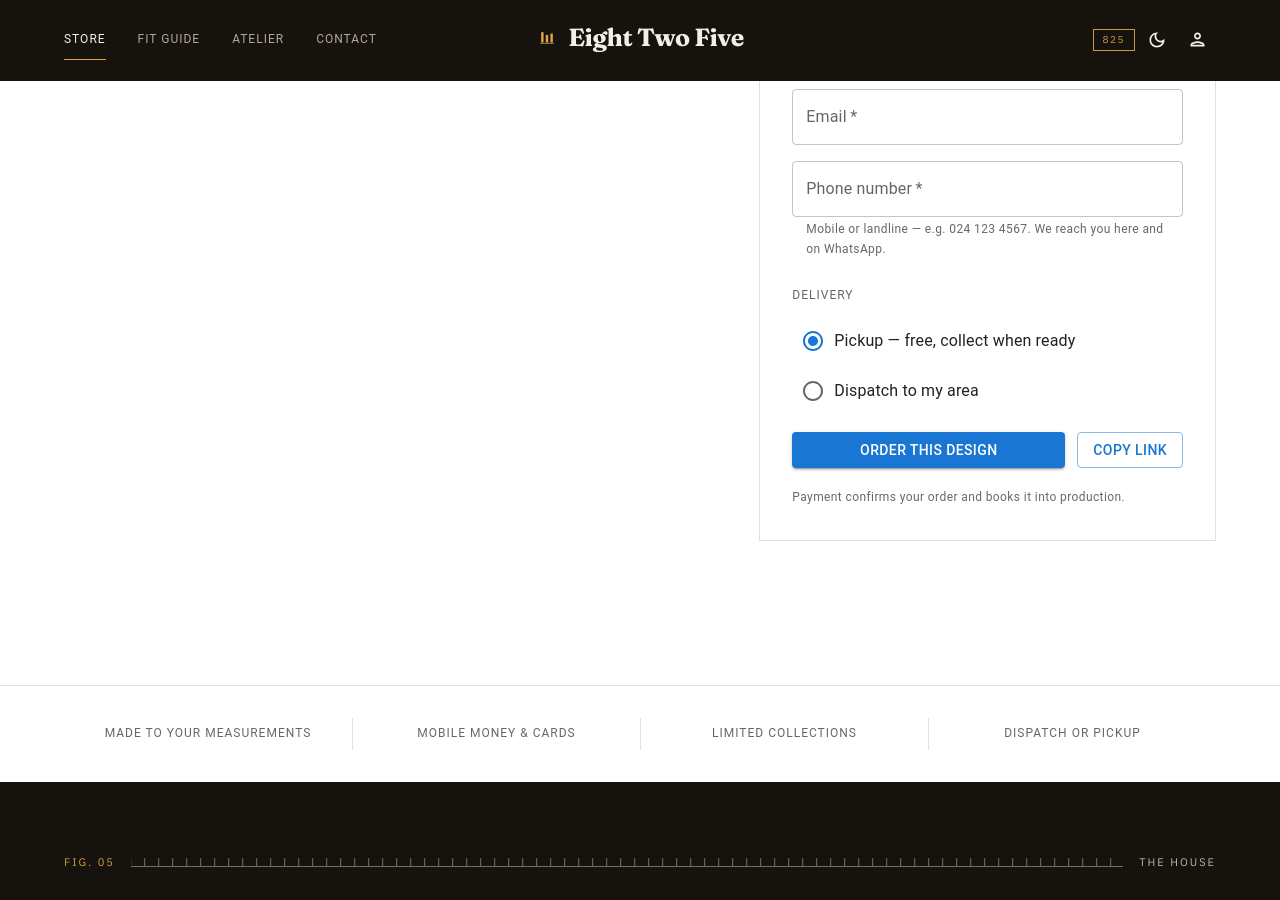
Test: DesignPage › shows an error state when the clipboard write fails
(page scrolled)
Click the button "Copy link": (1130, 450) 1077,432 -> 1183,468
(page scrolled)
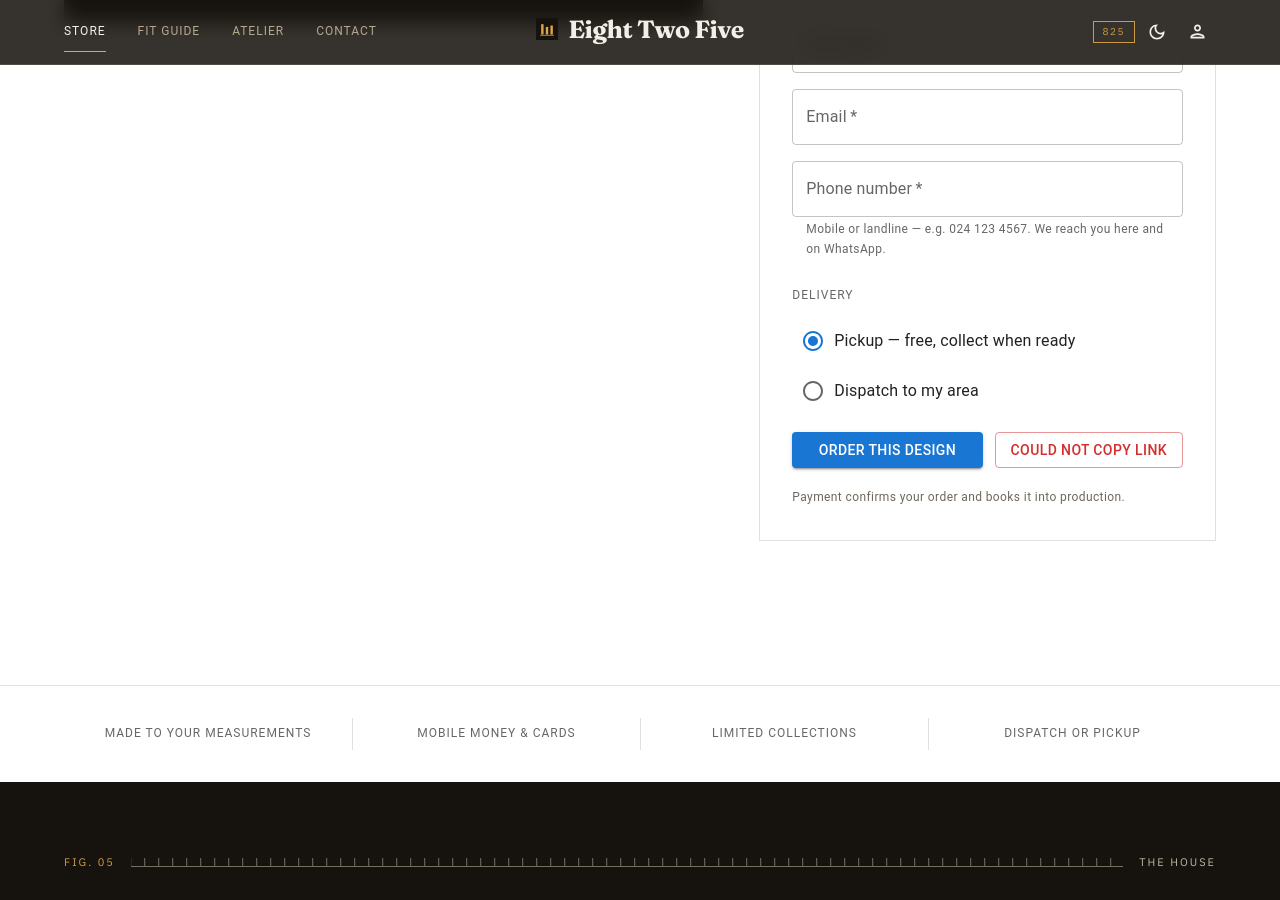
Expected: the button "Could not copy link" is shown, 994,432 -> 1183,468
